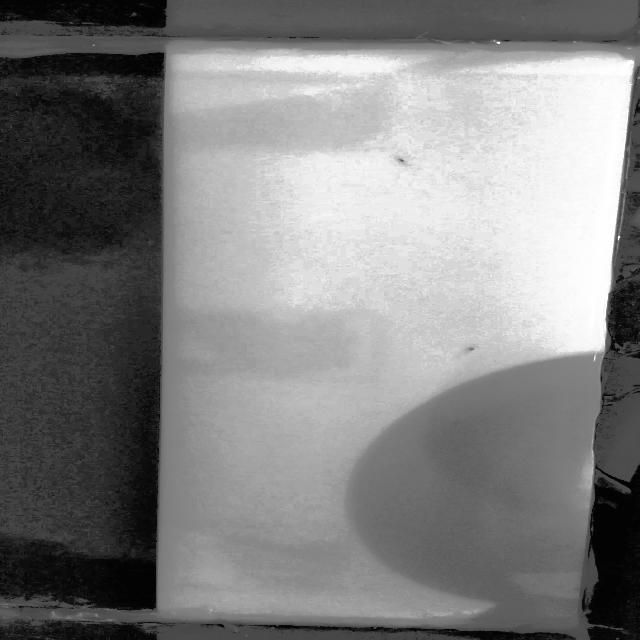shrimp: (456, 343, 483, 363), (389, 154, 414, 164)
